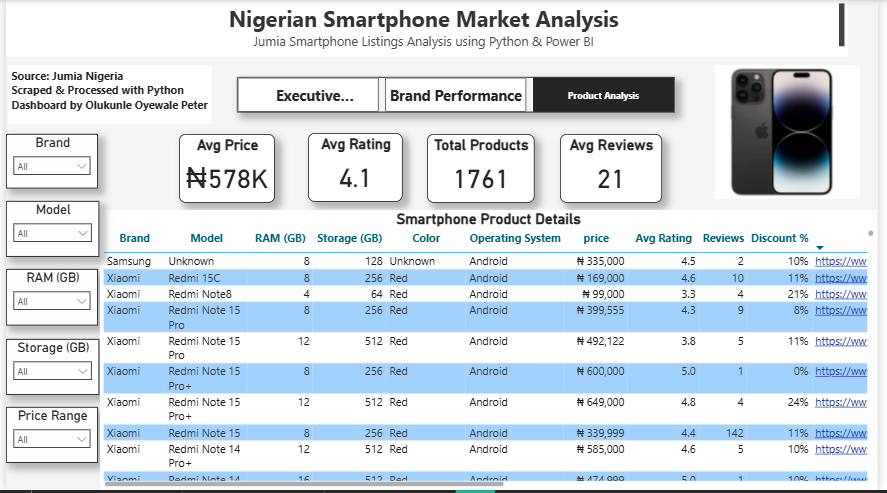

The dashboard page shown, as its layout file describes it:
{"tool":"powerbi","page":{"name":"Product Analysis","canvas":[1280,720],"ordinal":2},"visuals":[{"type":"textbox","box":[0,0,1236.7,83.3],"z":0},{"type":"slicer","title":"Brand","fields":{"Values":["Product_variant.Brand"]},"box":[0,196.7,135,80],"z":1000},{"type":"slicer","title":"RAM (GB)","fields":{"Values":["Product_variant.RAM (GB)"]},"box":[0,395.8,135,83.3],"z":2000},{"type":"slicer","title":"Storage (GB)","fields":{"Values":["Product_variant.Storage (GB)"]},"box":[0,497.9,136.7,81.7],"z":3000},{"type":"slicer","title":"Price Range","fields":{"Values":["Product_variant.Price Range"]},"box":[0,598.3,135,81.7],"z":4000},{"type":"card","title":"Avg Price","fields":{"Values":["_Measure.Average Price"]},"box":[253.6,196.5,141.1,100.8],"z":5000},{"type":"card","title":"Avg Rating","fields":{"Values":["_Measure.Average Rating"]},"box":[443.5,194.9,139.4,100.8],"z":6000},{"type":"card","title":"Total Products","fields":{"Values":["_Measure.Total Products"]},"box":[618.2,196.5,157.9,100.8],"z":7000},{"type":"card","title":"Avg Reviews","fields":{"Values":["_Measure.Average Reviews"]},"box":[814.7,196.5,149.5,100.8],"z":8000},{"type":"tableEx","title":"Smartphone Product Details","fields":{"Values":["Product_variant.Brand","Product_variant.Model","Product_variant.RAM (GB)","Product_variant.Storage (GB)","Product_variant.Color","Product_variant.Operating System","Product_variant.price","_Measure.Average Rating","Product_variant.Reviews","Product_variant.Discount  %","Product_variant.link"]},"box":[137.7,309.1,1142.3,411.5],"z":9000},{"type":"simpleImageEBC4593F96F1425FB3D84C5BF02B5075","fields":{"imageURL":["Product_variant.image"]},"box":[1041.5,95.7,213.3,196.5],"z":10000},{"type":"pageNavigator","box":[339.3,112.5,643.4,52.1],"z":11000},{"type":"textbox","box":[3.4,95.7,299,85.7],"z":12000},{"type":"slicer","title":"Model","fields":{"Values":["Product_variant.Model"]},"box":[0,295.4,136.7,81.7],"z":13000}]}

Visuals, with their boxes in screenshot pixels (x1, y1, x2, y2), scaled from the page's 1280x720 canvas onto the 887x493 screenshot:
textbox: box(0, 0, 857, 57)
"Brand" slicer: box(0, 135, 94, 189)
"RAM (GB)" slicer: box(0, 271, 94, 328)
"Storage (GB)" slicer: box(0, 341, 95, 397)
"Price Range" slicer: box(0, 410, 94, 466)
"Avg Price" card: box(176, 135, 274, 204)
"Avg Rating" card: box(307, 133, 404, 202)
"Total Products" card: box(428, 135, 538, 204)
"Avg Reviews" card: box(565, 135, 668, 204)
"Smartphone Product Details" tableEx: box(95, 212, 886, 492)
simpleImageEBC4593F96F1425FB3D84C5BF02B5075 - Product_variant.image: box(722, 66, 870, 200)
pageNavigator: box(235, 77, 681, 113)
textbox: box(2, 66, 210, 124)
"Model" slicer: box(0, 202, 95, 258)
